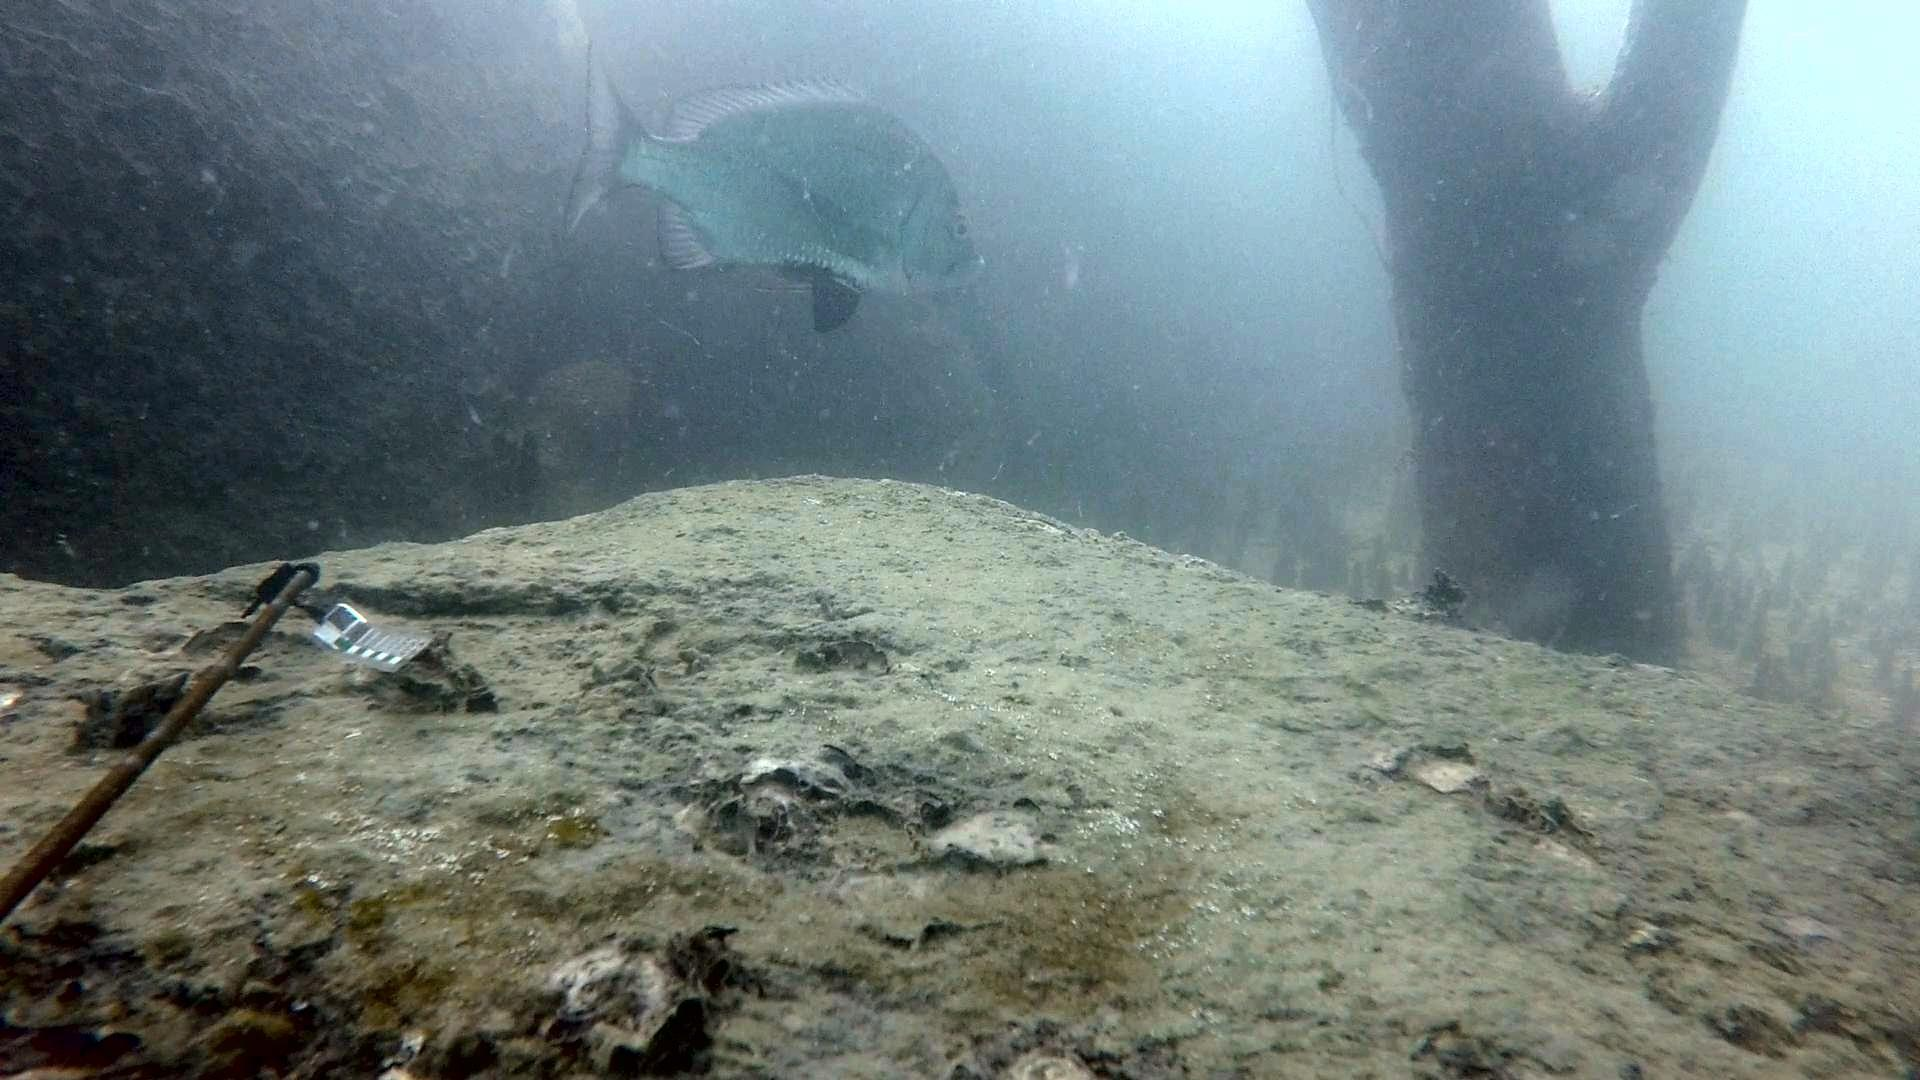acanthopagrus palmaris: (546, 36, 997, 345)
